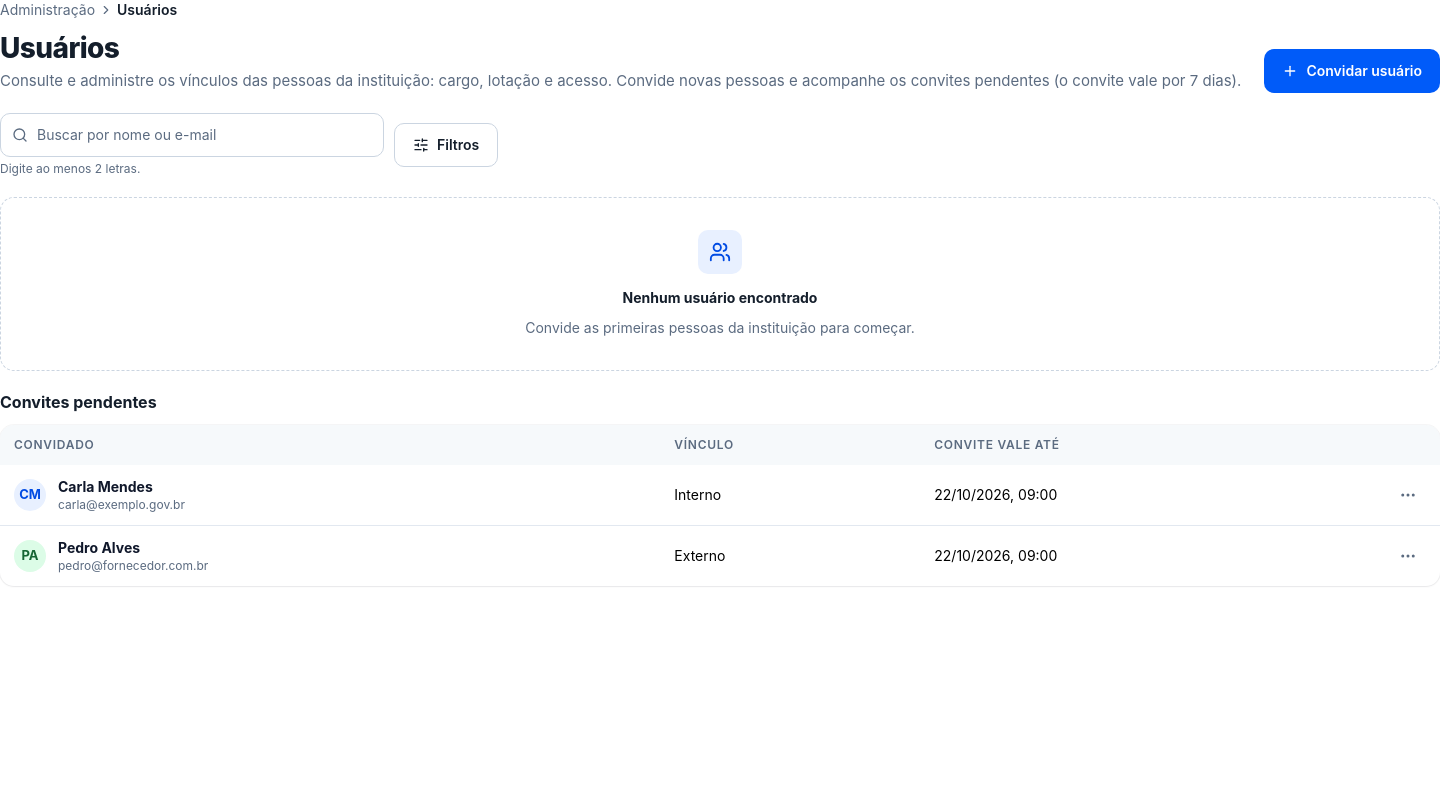
Test case: SCR-029 · convites pendentes (US-091) › [Cancelamento] pede confirmação (alertdialog) e envia USR-05; manter não cancela
Click the button named "Ações do convite de Carla Mendes": (1408, 495) left=1390, top=477, right=1426, bottom=513
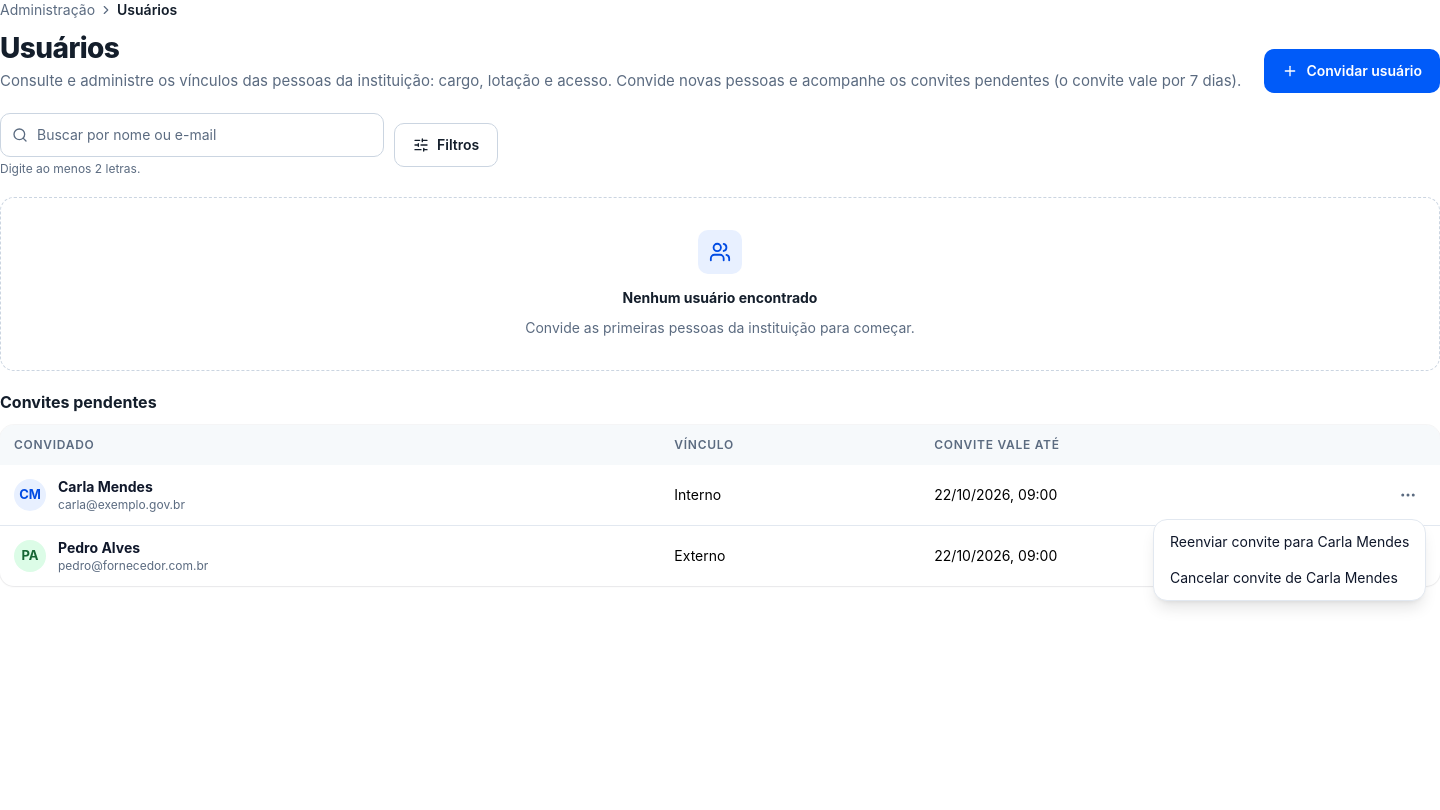
Click the menu item "Cancelar convite de Carla Mendes": (1284, 578) left=1170, top=569, right=1398, bottom=586
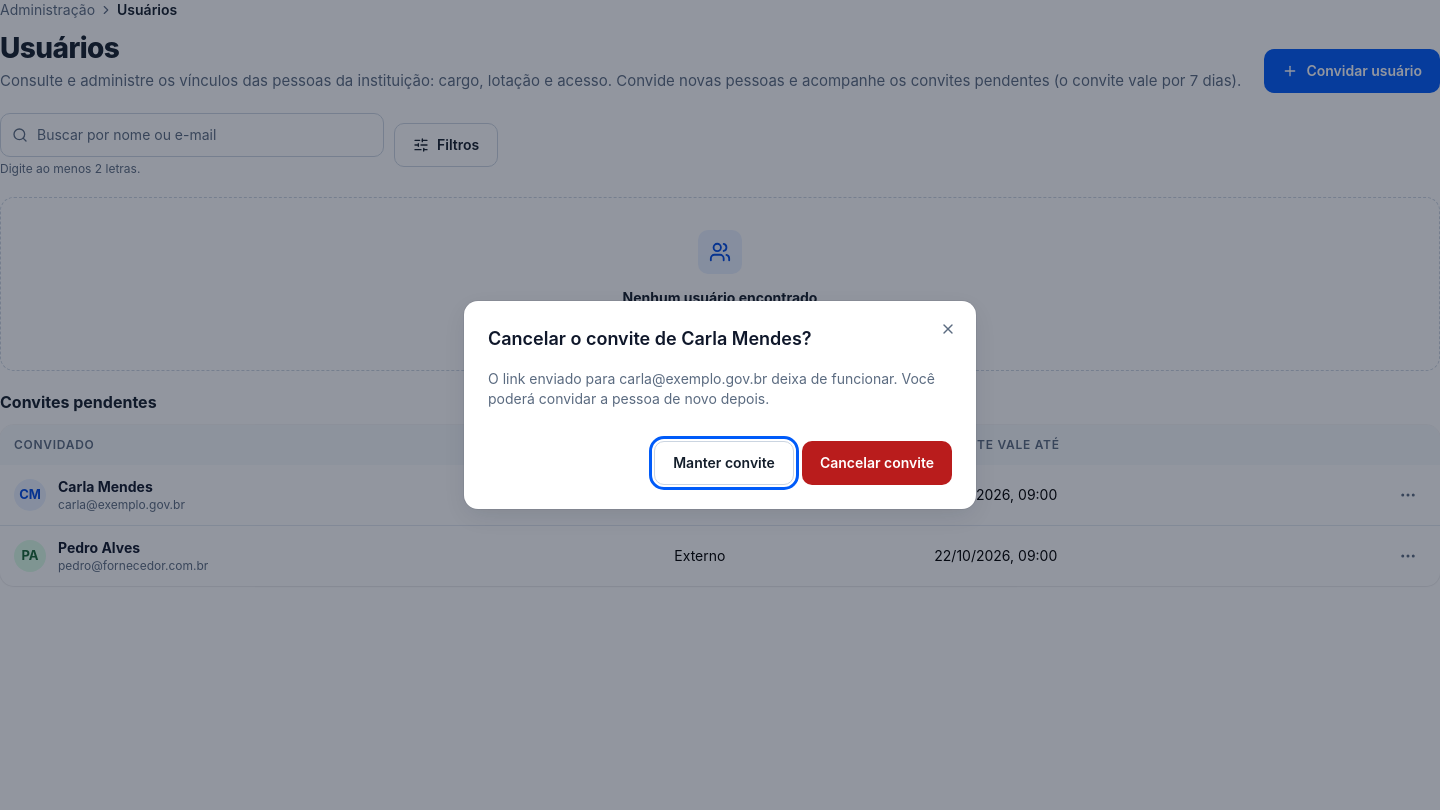
Click the button "Manter convite": (724, 463) left=654, top=441, right=794, bottom=485
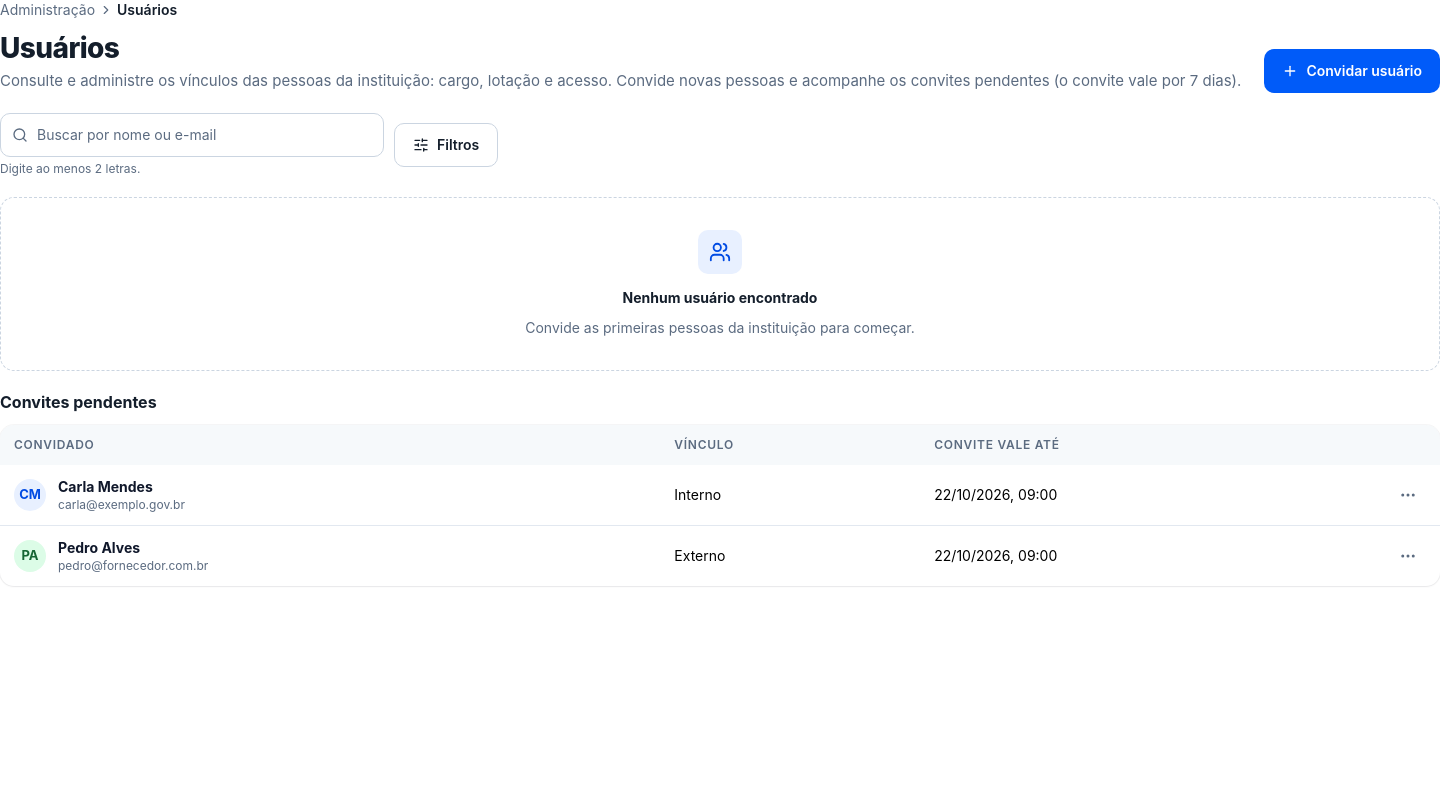
Now the dialog is gone
Click the button named "Ações do convite de Carla Mendes": (1408, 495) left=1390, top=477, right=1426, bottom=513
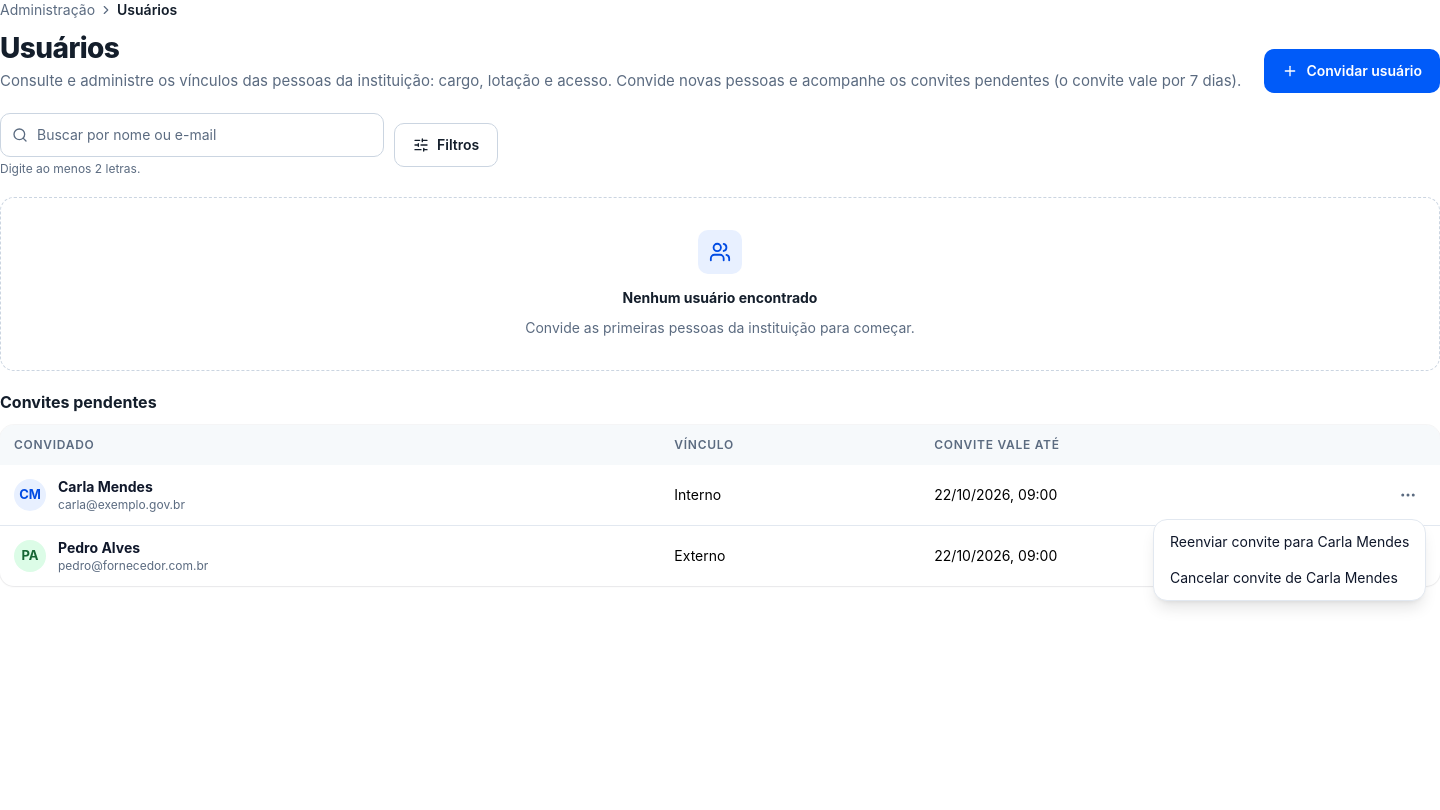
Click the menu item "Cancelar convite de Carla Mendes": (1284, 578) left=1170, top=569, right=1398, bottom=586
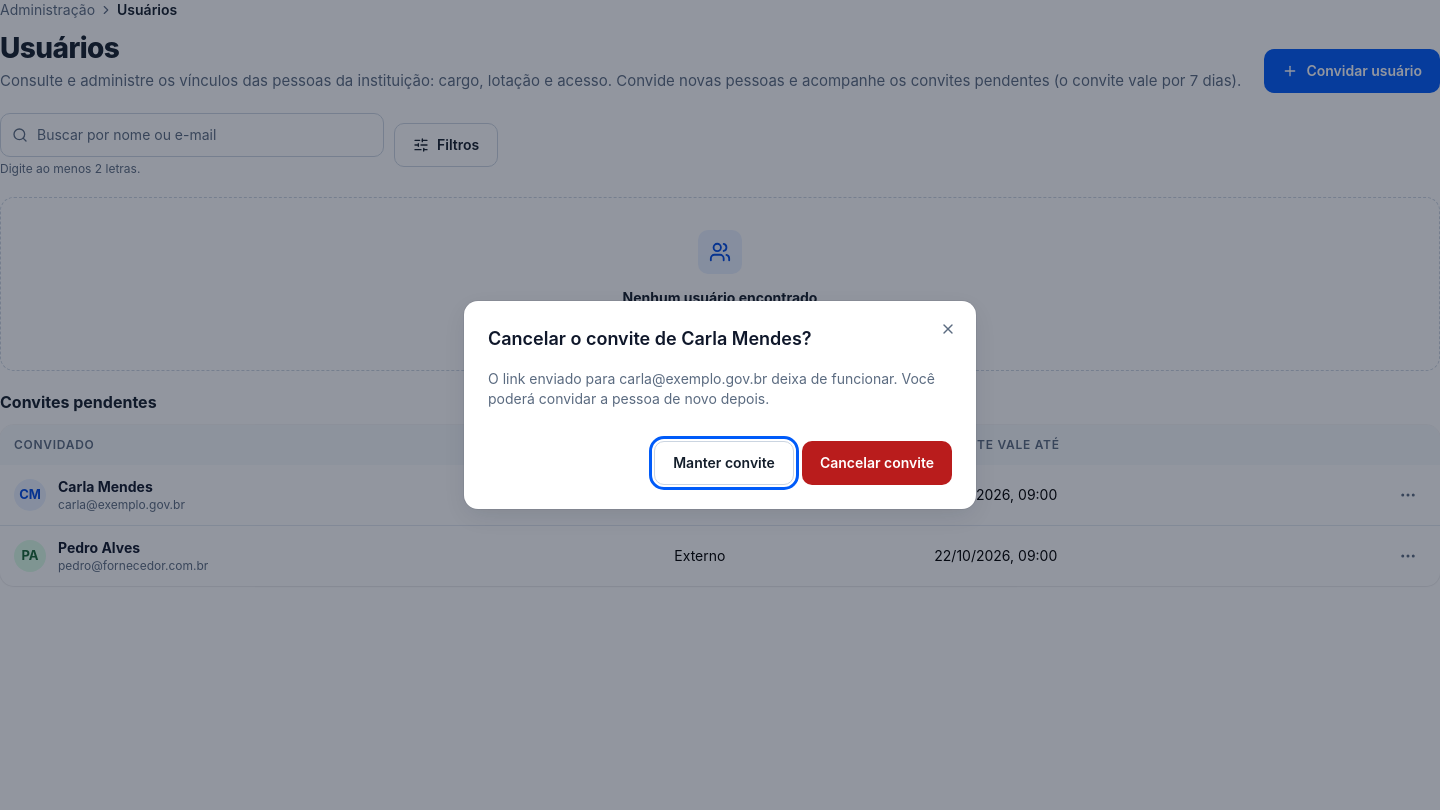
Click the button "Cancelar convite": (877, 463) left=802, top=441, right=952, bottom=485
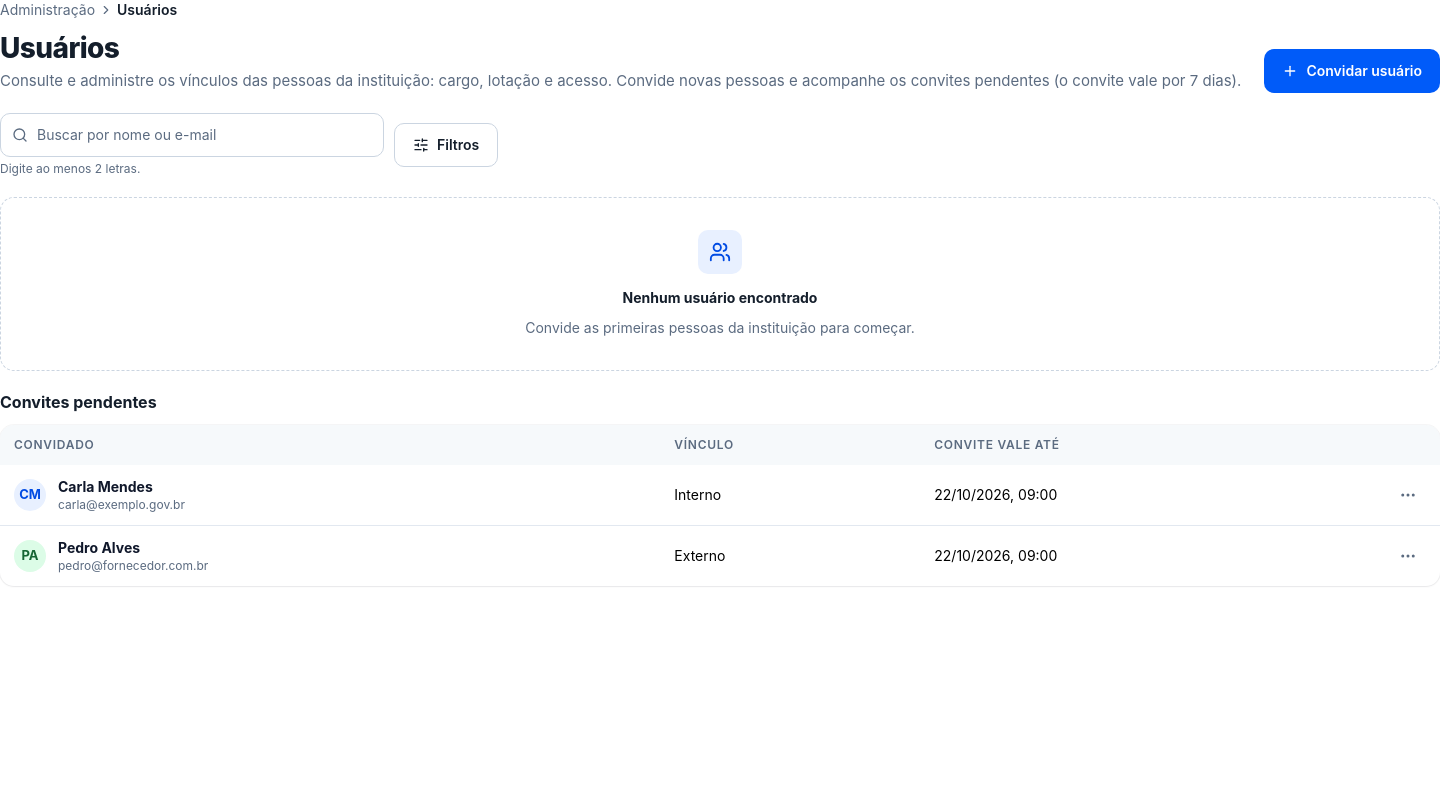
Now the dialog is gone
